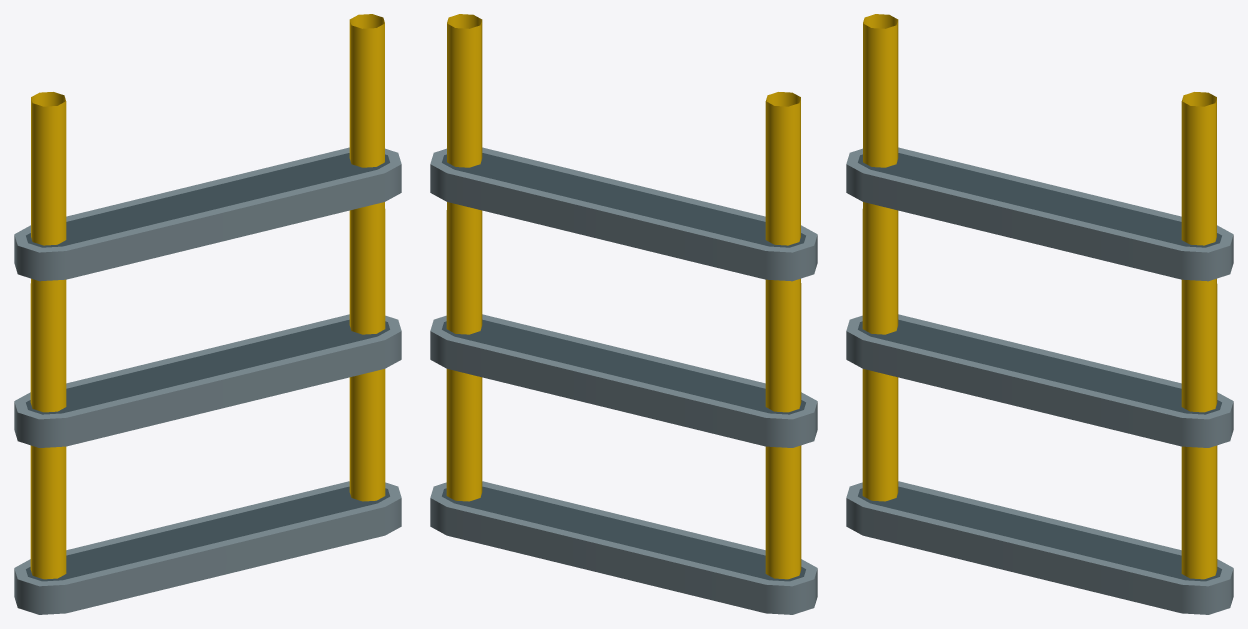
File: Ladder_short_003.fbx
3 views of the same model, side by side, from view 1: azimuth 30°, elevation 25°; view 2: azimuth 150°, elevation 25°; view 3: azimuth 330°, elevation 25° (orthographic).
Visible parts, largest first — view 1: Ladder_short_003; view 2: Ladder_short_003; view 3: Ladder_short_003.
Boxes of the visible parts, x1=… form: Ladder_short_003: x1=14, y1=14, x2=401, y2=614; Ladder_short_003: x1=430, y1=14, x2=817, y2=614; Ladder_short_003: x1=846, y1=14, x2=1233, y2=614.
Size of the model in its own units: 119 by 19.19 by 150.
